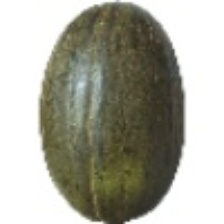honeydew: (22, 38, 178, 197)
